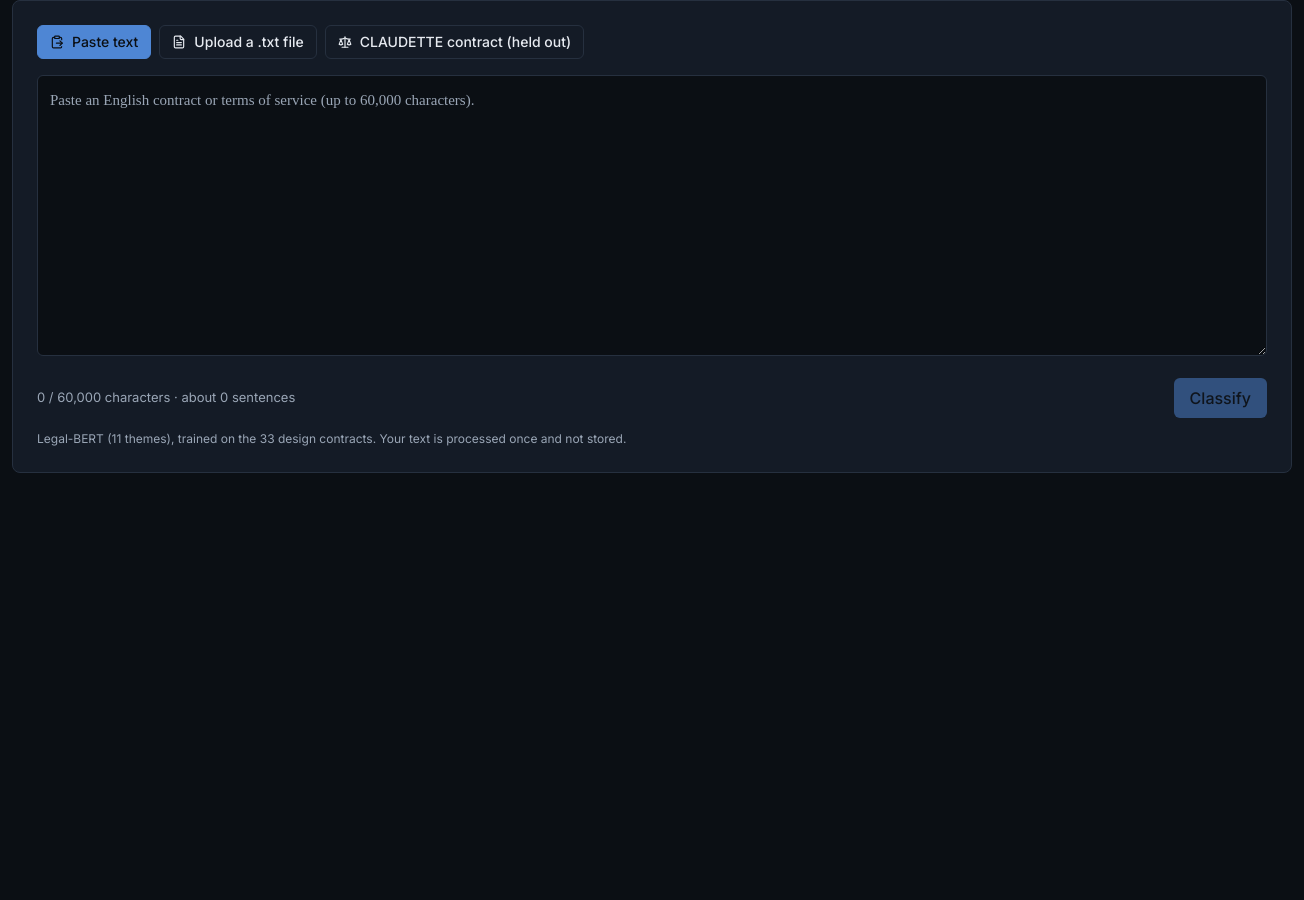
Test case: DemoPanel › runs a job and shows the result with segments
Replace the text in the text box with test id "demo-textarea" with "We may terminate your account at any time without notice. All fees are due within thirty days and are not refundable.": (652, 216) [37, 75, 1267, 356]
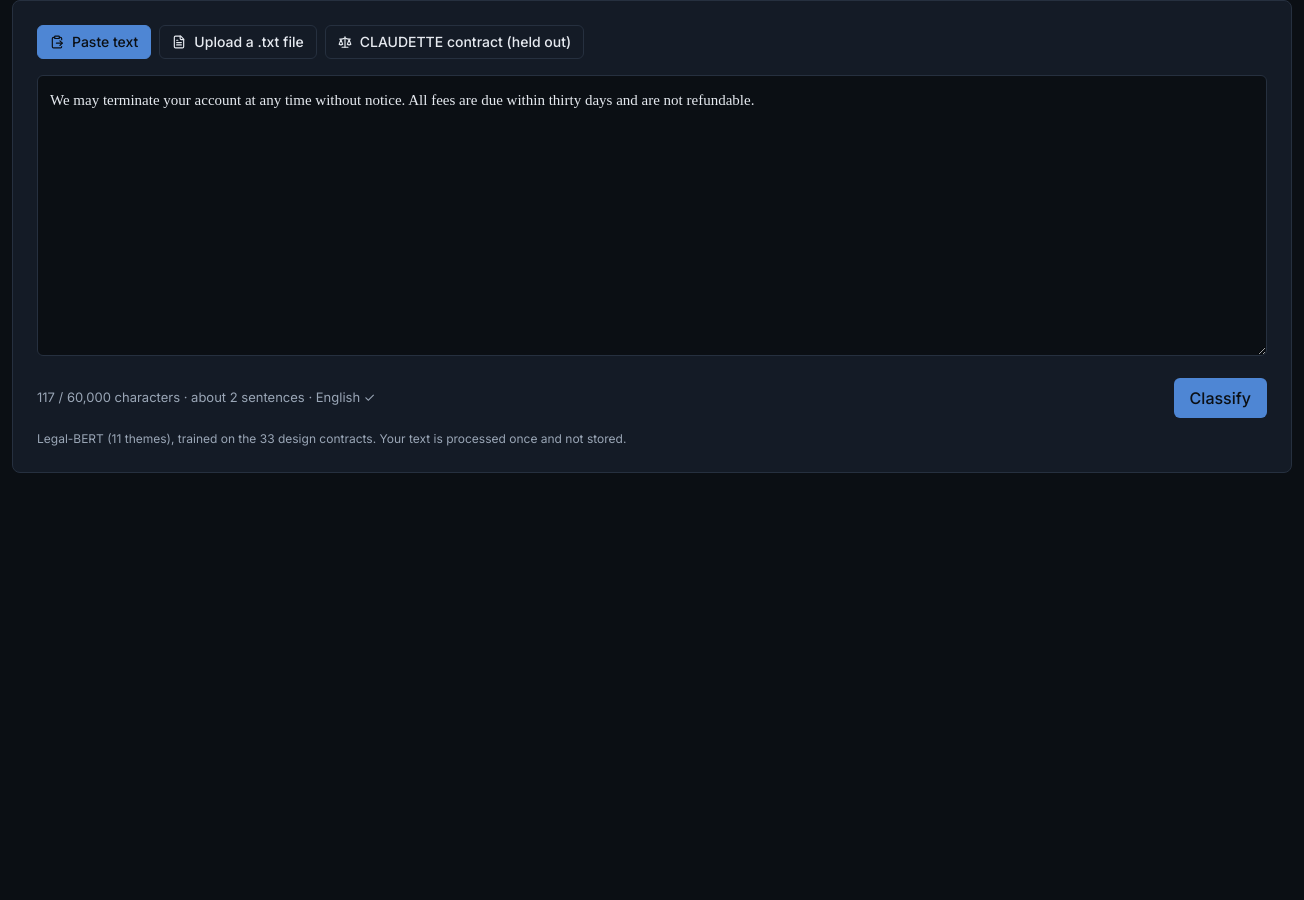
Click the button with test id "demo-classify": (1220, 398) [1174, 378, 1267, 418]
Wait 1100 ms
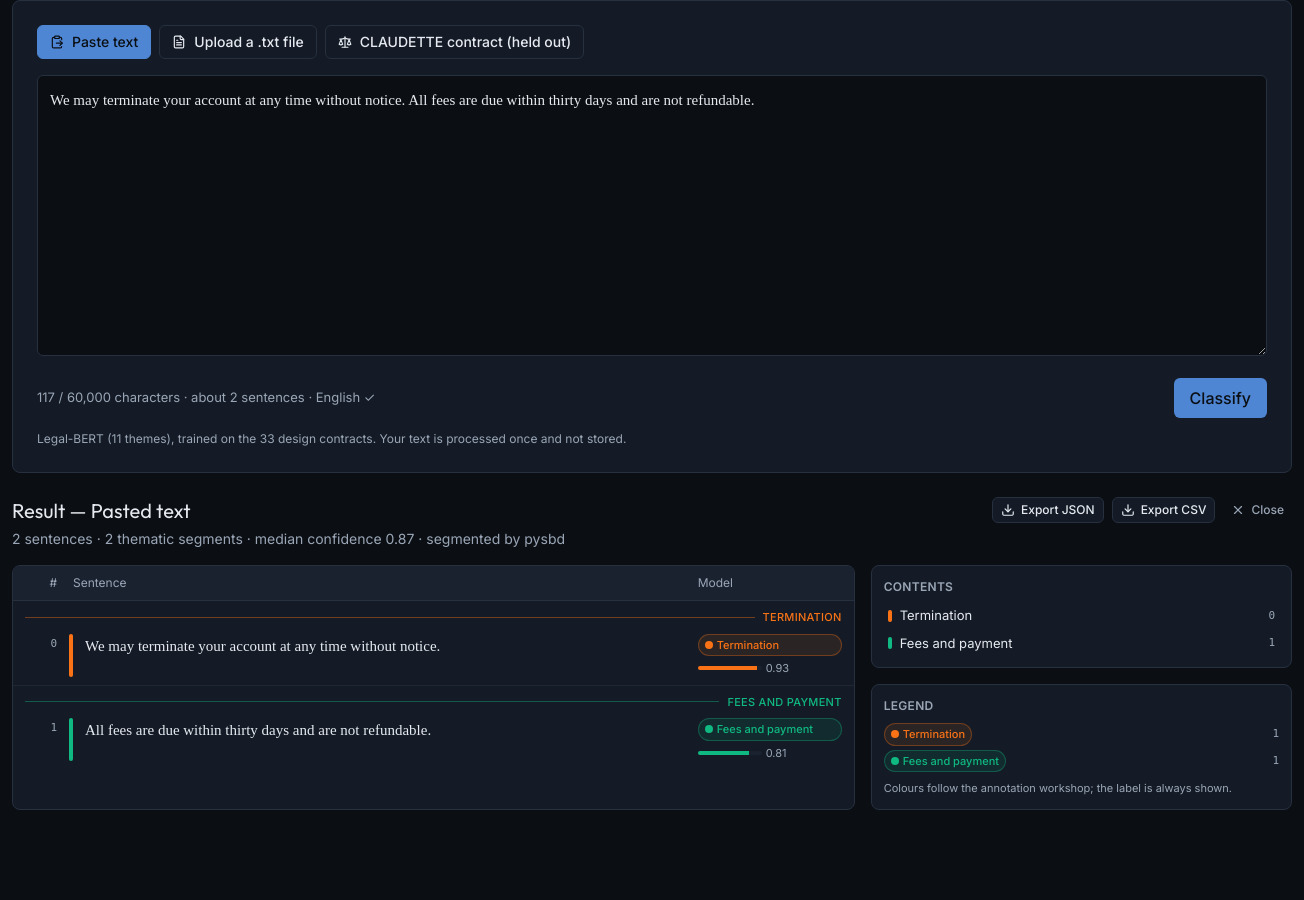
Check: the element with test id "demo-result" is shown, box [12, 497, 1292, 810]
Check: the number of elements with test id "demo-sentence-row" is 2, box [13, 626, 854, 684]; [13, 710, 854, 769]
Check: the number of elements with test id "demo-boundary" is 2, box [762, 610, 842, 624]; [728, 694, 842, 708]
